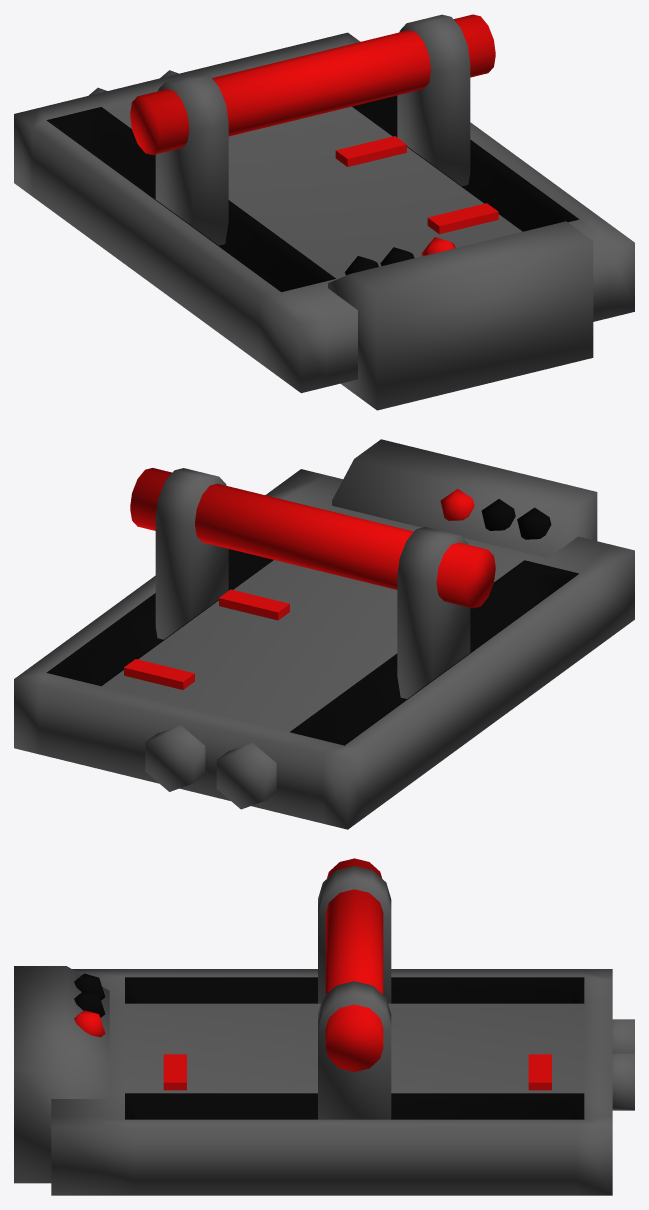
The model's file is cat_trackswitch.fbx.
3 views of the same model, one above another, from view 1: azimuth 30°, elevation 25°; view 2: azimuth 150°, elevation 25°; view 3: azimuth 270°, elevation 25° (orthographic). The views are drawn at different scales.
Visible parts, largest first — view 1: leverbase, lever; view 2: leverbase, lever; view 3: leverbase, lever.
Part boxes in pixels (bbox=[...]): leverbase: bbox=[14, 32, 634, 410]; lever: bbox=[130, 14, 495, 245]; leverbase: bbox=[14, 439, 634, 829]; lever: bbox=[130, 468, 495, 698]; leverbase: bbox=[14, 966, 634, 1195]; lever: bbox=[318, 858, 391, 1119].
Bounding box in the file's own units: 56.22 × 32.89 × 92.21.
